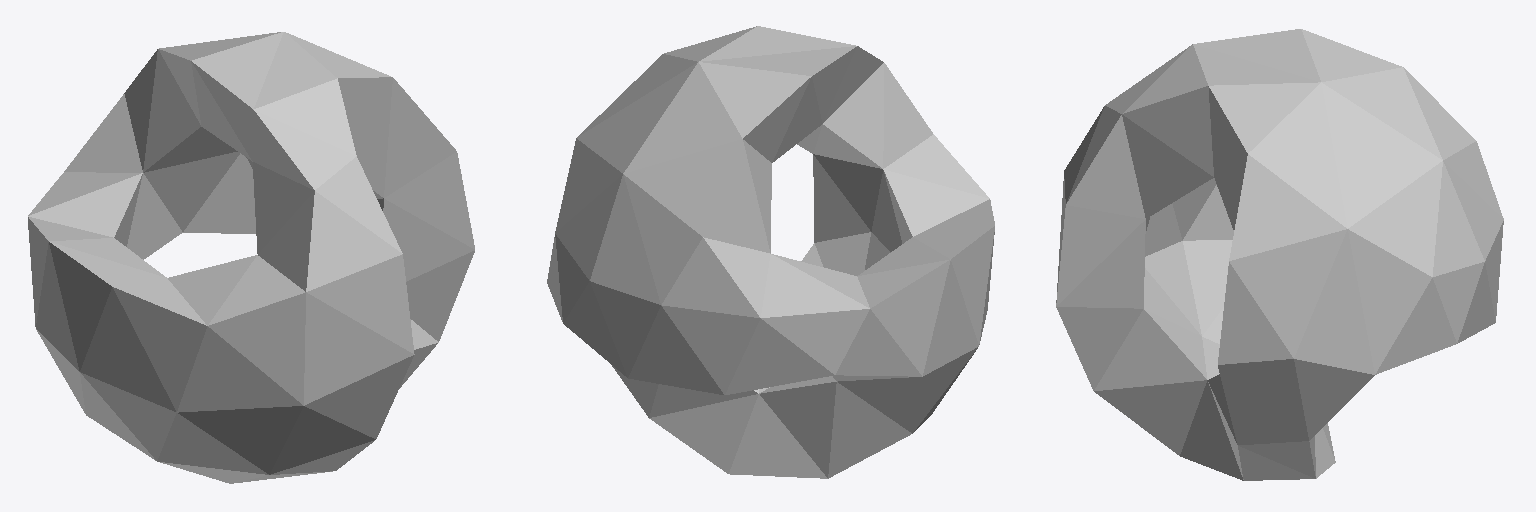
File: sculpture.obj
3 renders of one model, left to right at view 1: azimuth 30°, elevation 25°; view 2: azimuth 150°, elevation 25°; view 3: azimuth 270°, elevation 25°, orthographic.
Size of the model in its own units: 156 by 154 by 156.